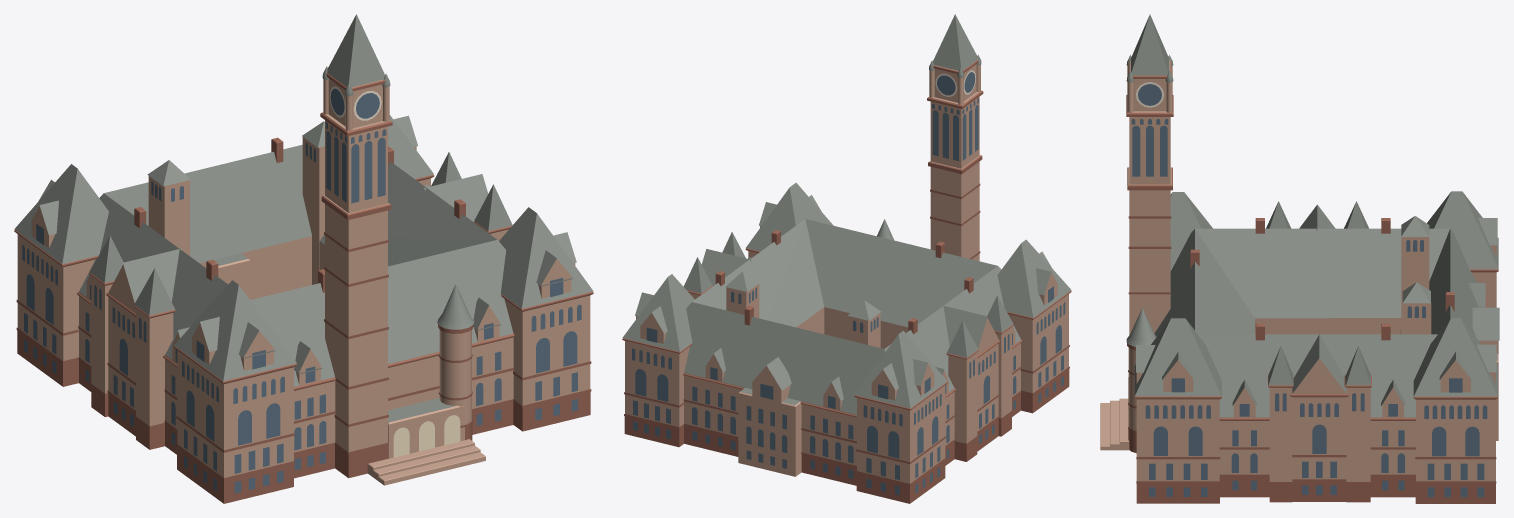
File: tor-old-city-hall.glb
3 views of the same model, side by side, from view 1: azimuth 30°, elevation 25°; view 2: azimuth 150°, elevation 25°; view 3: azimuth 270°, elevation 25° (orthographic). The views are drawn at different scales.
Parts seen in each view (by area): view 1: Old City Hall; view 2: Old City Hall; view 3: Old City Hall.
Boxes of the visible parts, x1,y1,x2,y2 form: Old City Hall: (14, 14, 593, 503); Old City Hall: (622, 14, 1071, 503); Old City Hall: (1100, 14, 1499, 503).
Size of the model in its own units: 89.3 by 104 by 95.3.
